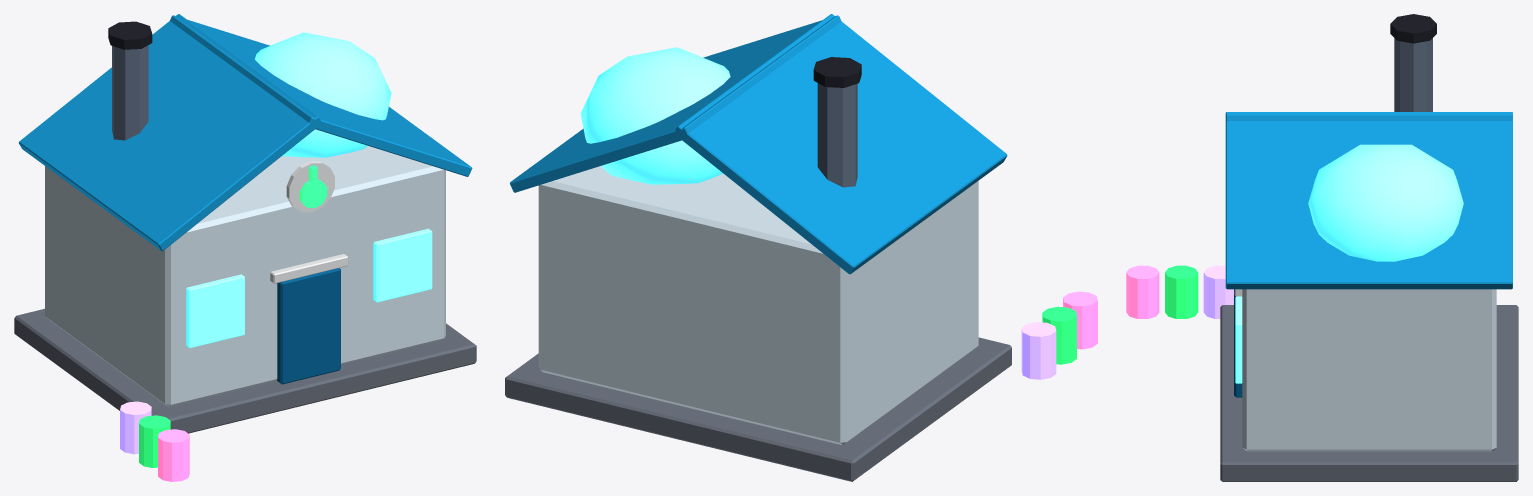
Rendered from lab.glb.
3 renders of one model, left to right at view 1: azimuth 30°, elevation 25°; view 2: azimuth 150°, elevation 25°; view 3: azimuth 270°, elevation 25°, orthographic. The views are drawn at different scales.
Visible parts, largest first — view 1: g_m_e0f2fe, g_m_0ea5e9, g_m_a5f3fc_e, g_m_6b7280, g_m_0369a1, g_m_64748b, g_m_f472b6_e, g_m_f8fafc.001, g_m_a78bfa_e, g_m_22c55e_e.001, g_m_1b1d26, g_m_f8fafc (+1 smaller); view 2: g_m_e0f2fe, g_m_0ea5e9, g_m_6b7280, g_m_a5f3fc_e, g_m_64748b, g_m_a78bfa_e, g_m_22c55e_e.001, g_m_f472b6_e, g_m_1b1d26; view 3: g_m_e0f2fe, g_m_0ea5e9, g_m_a5f3fc_e, g_m_6b7280, g_m_64748b, g_m_22c55e_e.001, g_m_f472b6_e, g_m_a78bfa_e, g_m_1b1d26.
Part boxes in pixels (<box>): g_m_e0f2fe: <box>45,146,445,406</box>; g_m_0ea5e9: <box>19,14,472,251</box>; g_m_a5f3fc_e: <box>186,32,432,347</box>; g_m_6b7280: <box>14,308,476,433</box>; g_m_0369a1: <box>277,268,340,384</box>; g_m_64748b: <box>112,45,148,140</box>; g_m_f472b6_e: <box>158,429,189,481</box>; g_m_f8fafc.001: <box>286,161,334,212</box>; g_m_a78bfa_e: <box>120,401,151,454</box>; g_m_22c55e_e.001: <box>139,415,170,467</box>; g_m_1b1d26: <box>108,21,152,49</box>; g_m_f8fafc: <box>270,254,348,283</box>; g_m_e0f2fe: <box>538,166,978,445</box>; g_m_0ea5e9: <box>510,14,1007,274</box>; g_m_6b7280: <box>505,337,1011,481</box>; g_m_a5f3fc_e: <box>580,47,730,184</box>; g_m_64748b: <box>817,83,857,187</box>; g_m_a78bfa_e: <box>1021,322,1056,379</box>; g_m_22c55e_e.001: <box>1042,306,1076,364</box>; g_m_f472b6_e: <box>1063,291,1097,349</box>; g_m_1b1d26: <box>813,57,861,87</box>; g_m_e0f2fe: <box>1242,289,1496,451</box>; g_m_0ea5e9: <box>1225,112,1512,289</box>; g_m_a5f3fc_e: <box>1235,144,1463,383</box>; g_m_6b7280: <box>1220,305,1518,481</box>; g_m_64748b: <box>1394,38,1432,111</box>; g_m_22c55e_e.001: <box>1165,265,1198,318</box>; g_m_f472b6_e: <box>1126,265,1159,318</box>; g_m_a78bfa_e: <box>1203,265,1233,318</box>; g_m_1b1d26: <box>1390,14,1436,43</box>.
Size of the model in its own units: 7.59 by 6.65 by 7.1.
